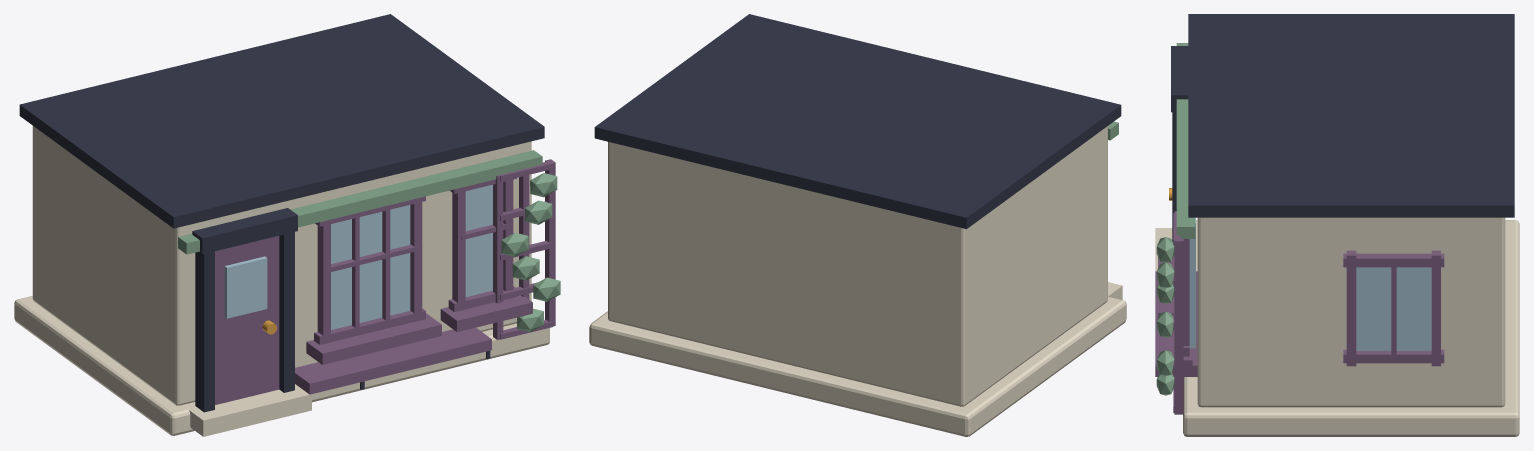
The model's file is base_house_gardens_2.glb.
3 views of the same model, side by side, from view 1: azimuth 30°, elevation 25°; view 2: azimuth 150°, elevation 25°; view 3: azimuth 270°, elevation 25° (orthographic). The views are drawn at different scales.
Parts seen in each view (by area): view 1: base_house_gardens_2 ink, base_house_gardens_2 mist, base_house_gardens_2 patina, base_house_gardens_2 glass, base_house_gardens_2 pine; view 2: base_house_gardens_2 mist, base_house_gardens_2 ink; view 3: base_house_gardens_2 ink, base_house_gardens_2 mist, base_house_gardens_2 patina, base_house_gardens_2 glass, base_house_gardens_2 pine.
Boxes of the visible parts, bbox=[...] form: base_house_gardens_2 ink: bbox=[19, 14, 544, 412]; base_house_gardens_2 mist: bbox=[14, 126, 549, 436]; base_house_gardens_2 patina: bbox=[215, 159, 555, 404]; base_house_gardens_2 glass: bbox=[224, 184, 492, 329]; base_house_gardens_2 pine: bbox=[178, 150, 560, 332]; base_house_gardens_2 mist: bbox=[589, 126, 1126, 436]; base_house_gardens_2 ink: bbox=[594, 14, 1121, 229]; base_house_gardens_2 ink: bbox=[1171, 14, 1514, 242]; base_house_gardens_2 mist: bbox=[1155, 217, 1519, 436]; base_house_gardens_2 patina: bbox=[1155, 211, 1444, 414]; base_house_gardens_2 glass: bbox=[1189, 217, 1431, 350]; base_house_gardens_2 pine: bbox=[1156, 43, 1195, 395].
Size of the model in its own units: 0.8845 by 0.48 by 0.6875.
